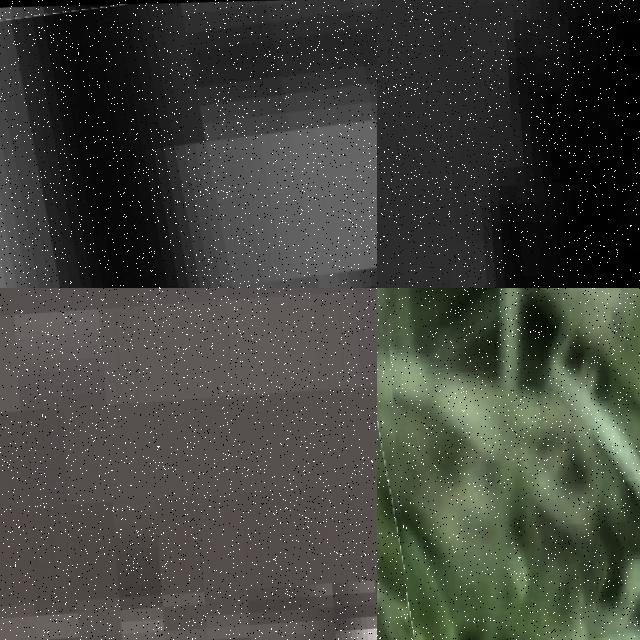drone: (0, 0, 377, 288)
